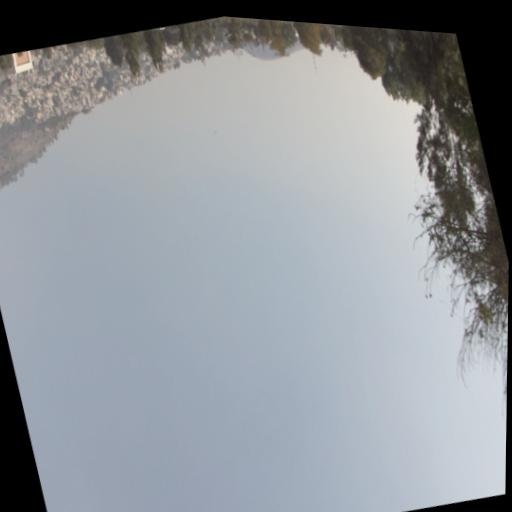drones: (214, 129, 218, 135)
